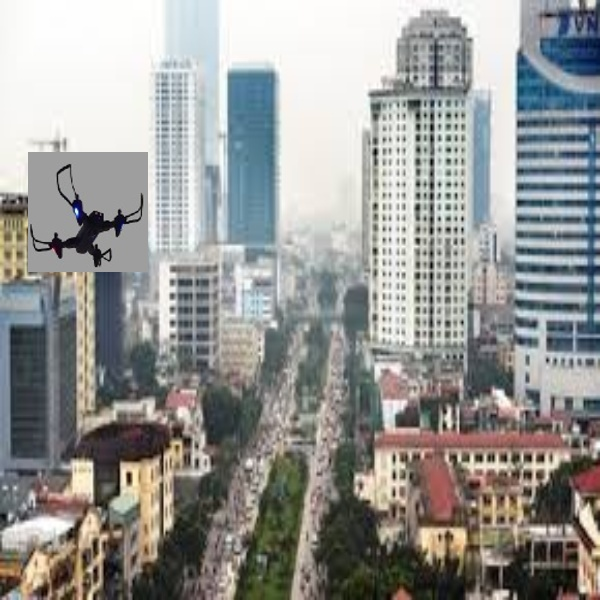drone: (20, 150, 150, 271)
